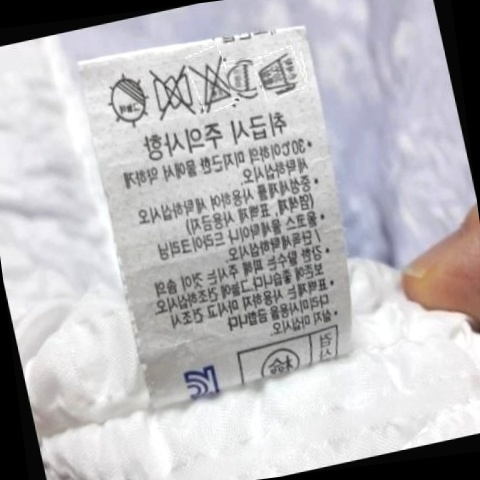DN_wring: (146, 64, 195, 119)
dry_clean: (226, 58, 260, 96)
hand_wash: (253, 47, 302, 94)
non_chlorine_bleach: (192, 55, 233, 109)
shade_dry: (101, 71, 153, 132)
